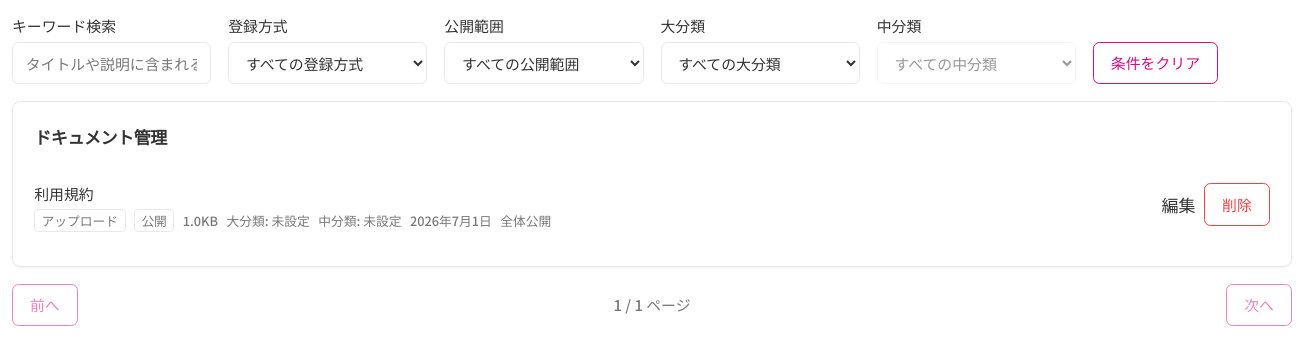
Scenario: DocumentManagementListClient › 絞り込み結果が0件のとき0件メッセージを表示する
This screenshot has width=1304, height=343.
Type "存在しないキーワード" into the field labelled "キーワード検索" at (112, 63), box [12, 42, 211, 84]
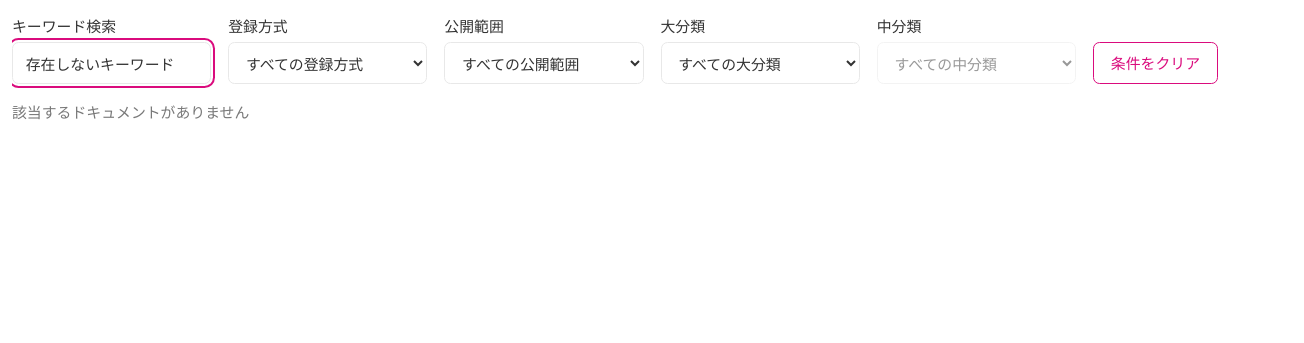
Expected: the text "該当するドキュメントがありません" is shown, [12, 101, 249, 122]
